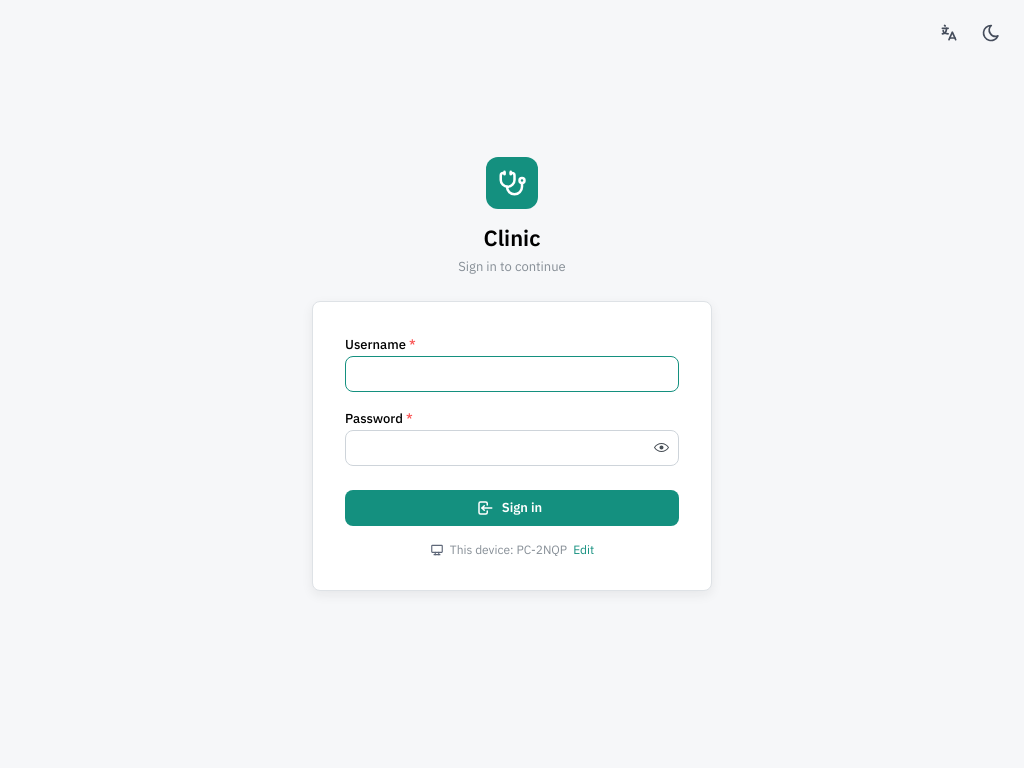
Test: sign-in › shows the login page without a session and signs in
This screenshot has width=1024, height=768.
Type "amal" into the field labelled "Username *".
click(512, 374); type("amal")  # box [345,356,679,392]
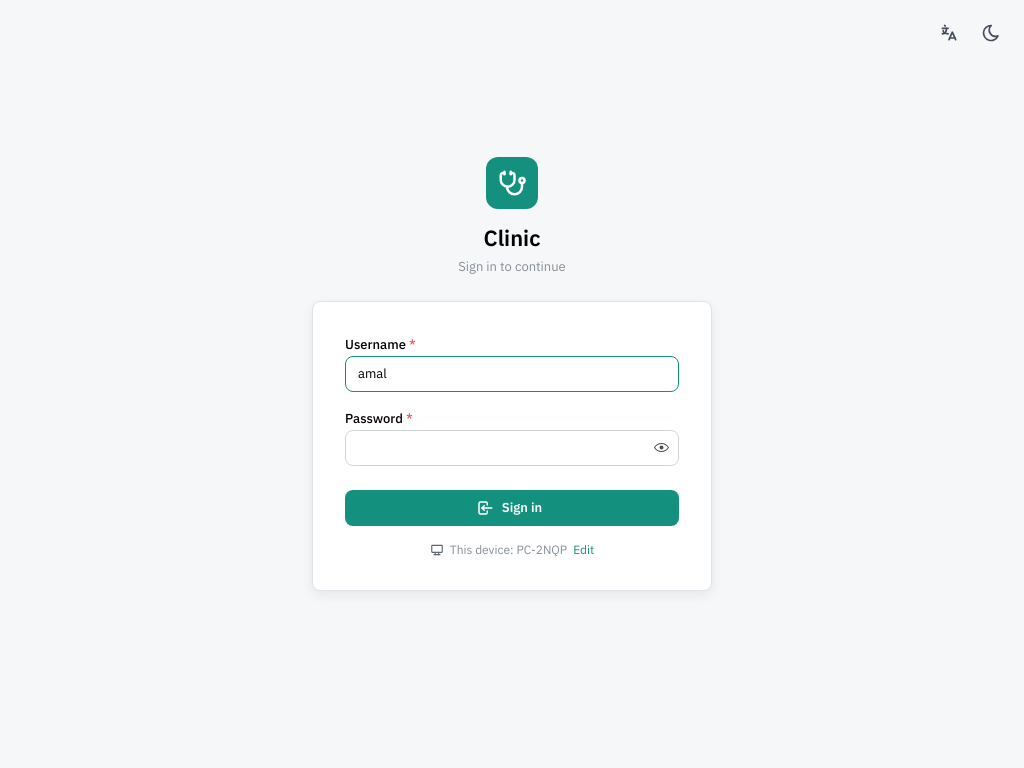
Type "wrong-password" into the password field labelled "Password *".
click(512, 448); type("wrong-password")  # box [346,430,678,464]
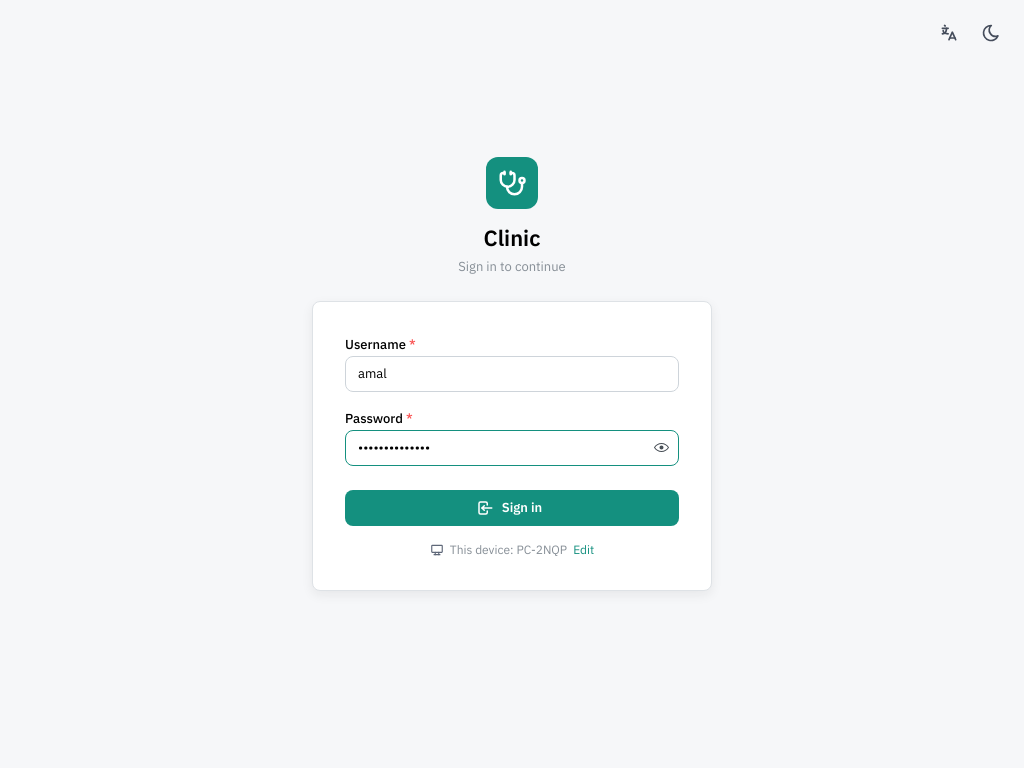
Click the button "Sign in".
click(512, 508)  # box [345,490,679,526]
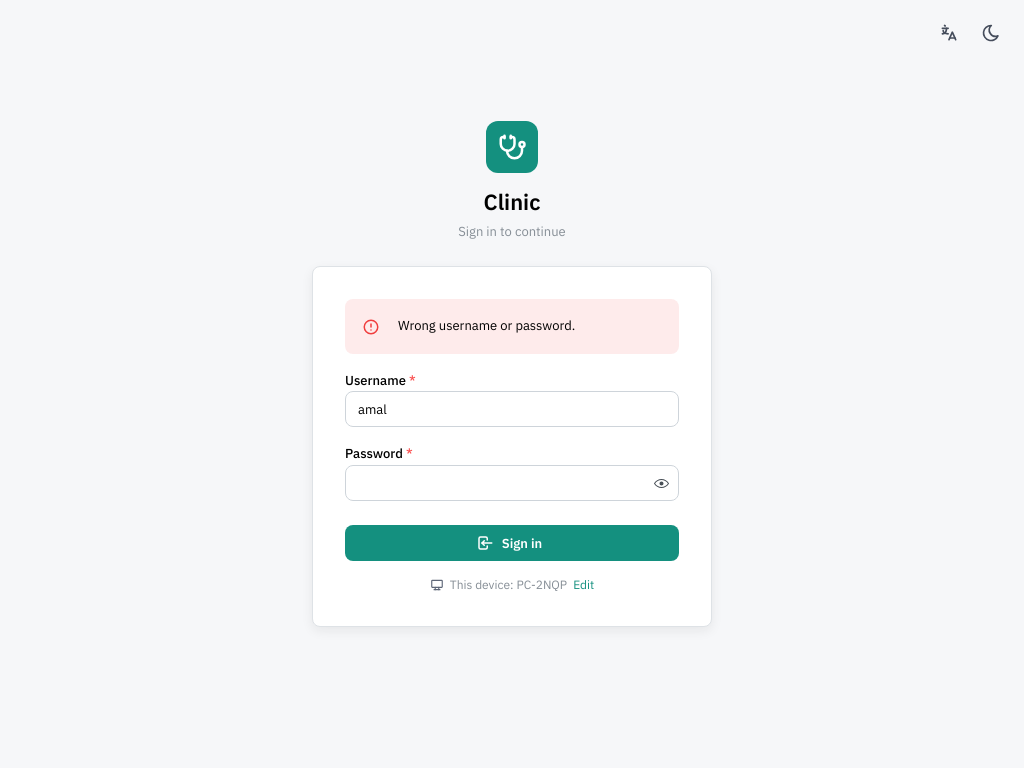
Result: the message with test id "login-error" reads "Wrong username or password." at [398,317,575,334]
Type "Correct-Horse-9" into the password field labelled "Password *".
click(512, 483); type("Correct-Horse-9")  # box [346,466,678,500]
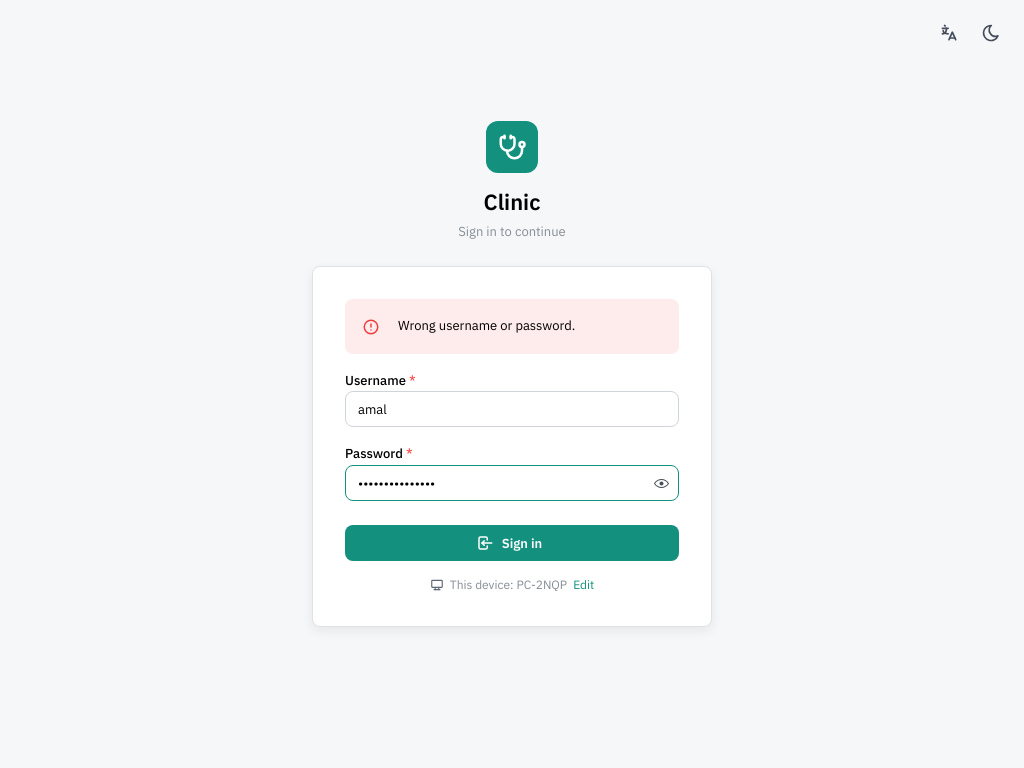
Click the button "Sign in".
click(512, 543)  # box [345,525,679,561]
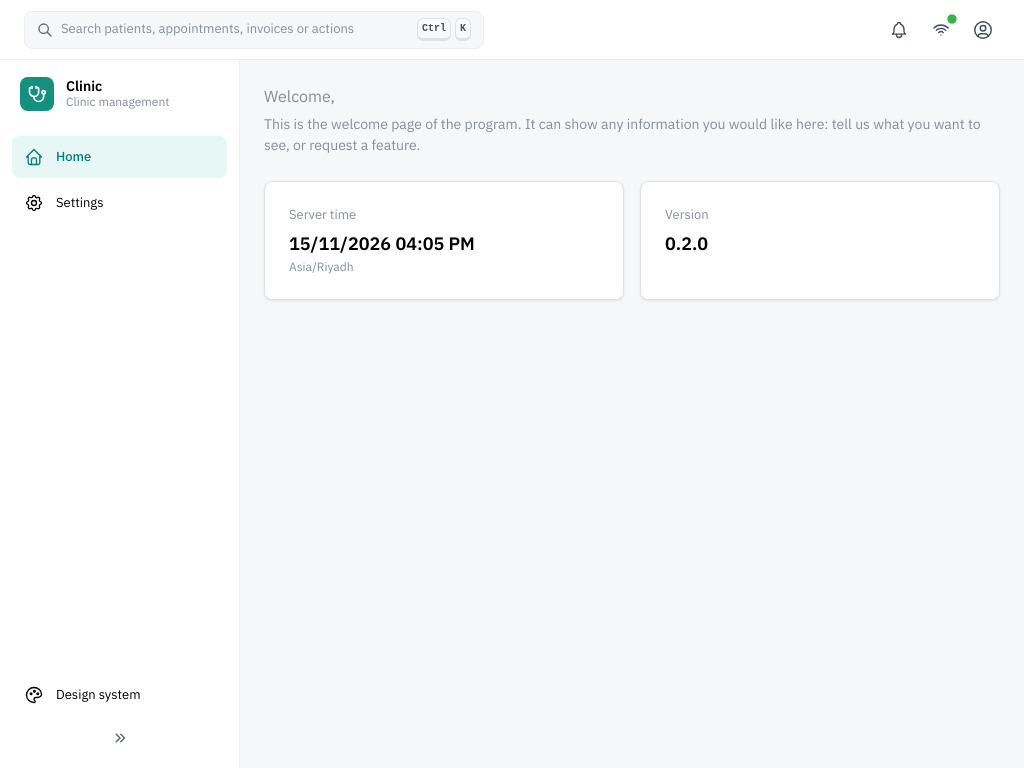
Result: the text "15/11/2026 04:05 PM" is shown at [289,232,475,255]
